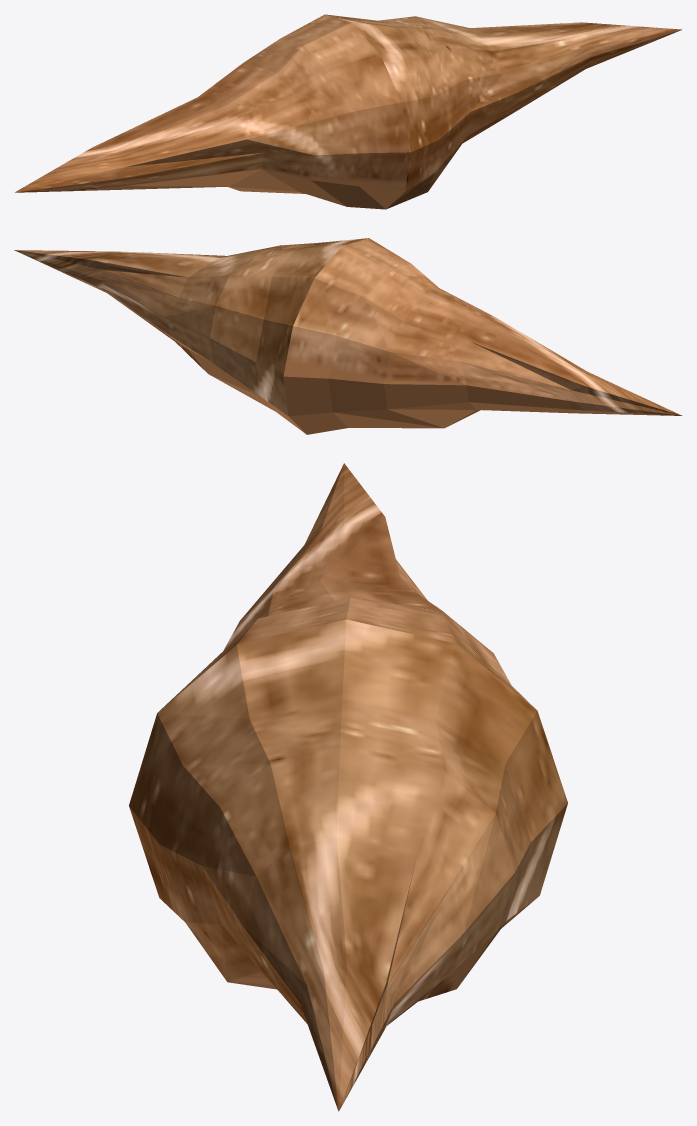
File: arrow_head_crystal.FBX
3 views of the same model, one above another, from view 1: azimuth 30°, elevation 25°; view 2: azimuth 150°, elevation 25°; view 3: azimuth 270°, elevation 25° (orthographic). The views are drawn at different scales.
Visible parts, largest first — view 1: Object001; view 2: Object001; view 3: Object001.
Part boxes in pixels (x1,y1,x2,y2): Object001: (15,14,681,209); Object001: (14,238,682,434); Object001: (129,463,567,1111).
Size of the model in its own units: 13.78 by 3.57 by 3.93.
